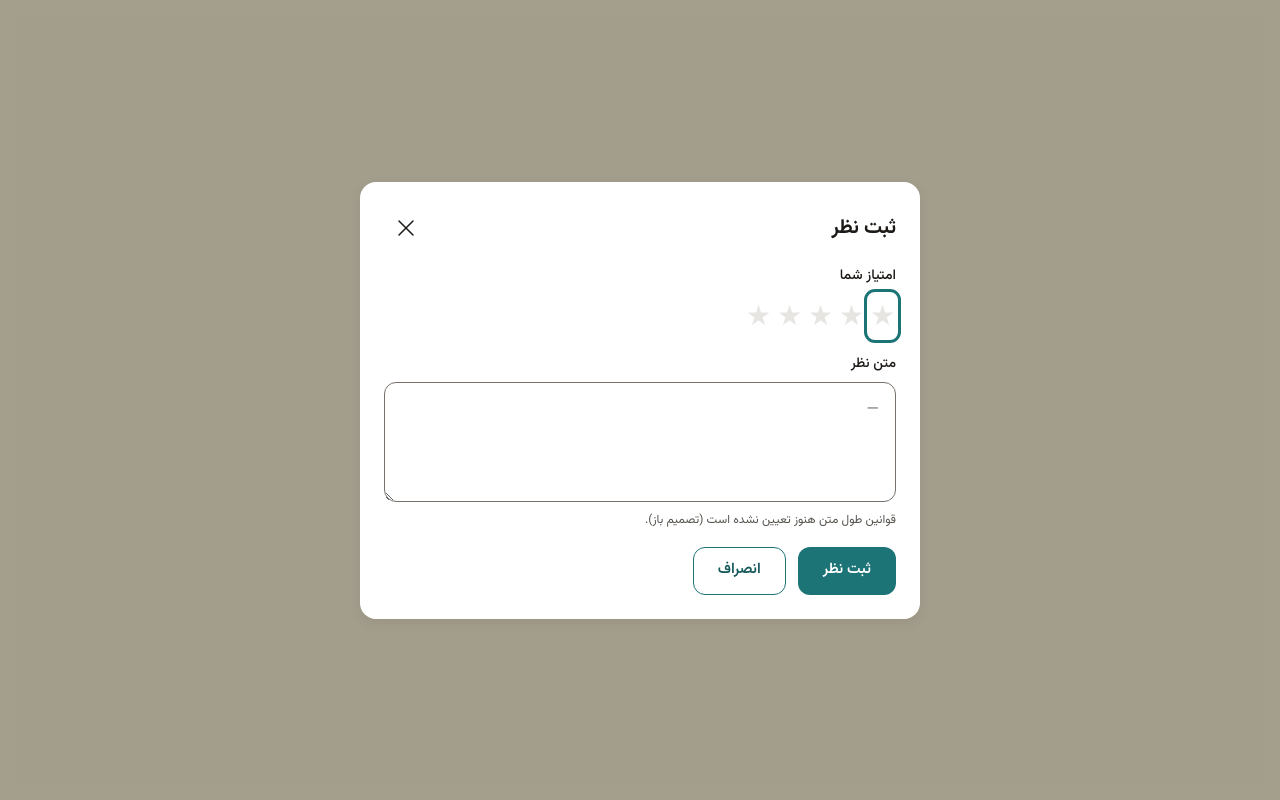
Test: Reviews (fix1 item 5, 266:71080 / 266:71357) › failure state offers retry
The width and height of the screenshot is (1280, 800).
Click the radio button named "۵ از ۵". click: [758, 316]
box: [745,294,772,338]
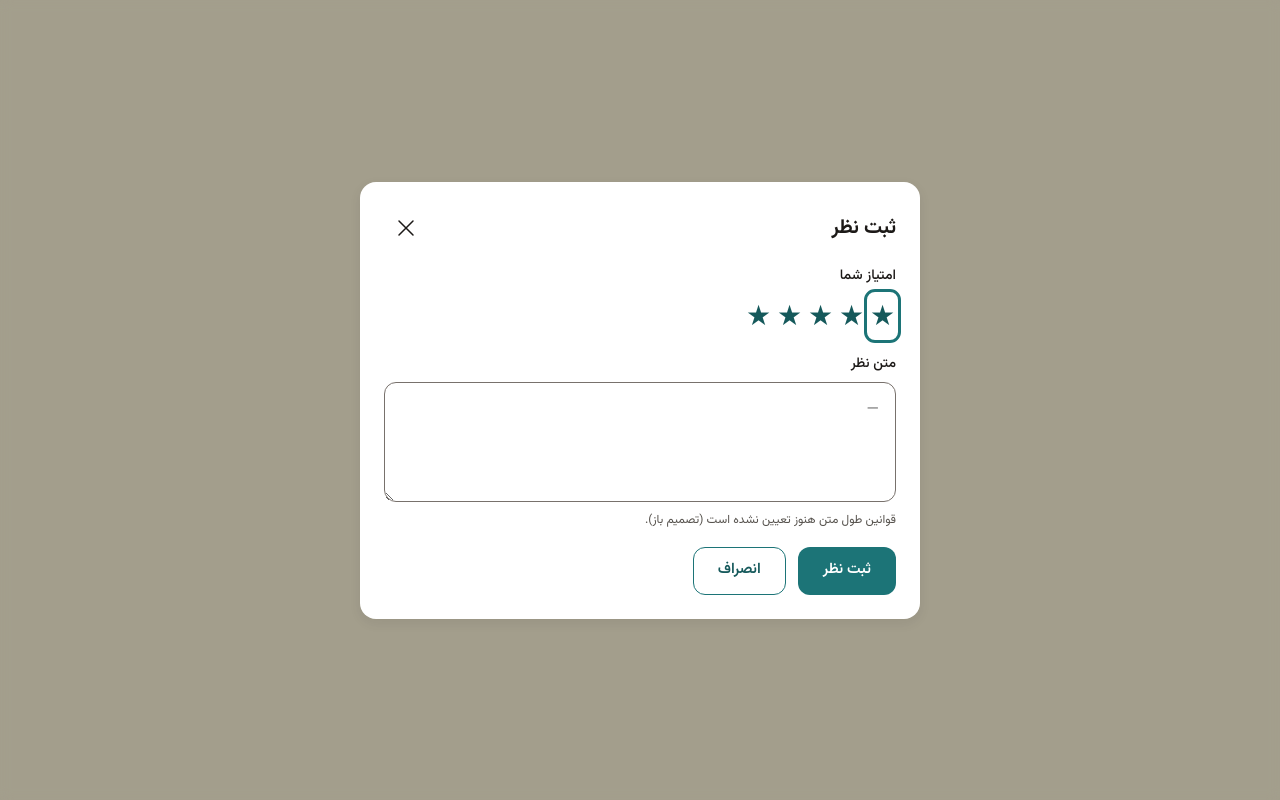
Type "x" into the text box labelled "متن نظر". click: [640, 442]
box: [384,382,896,502]
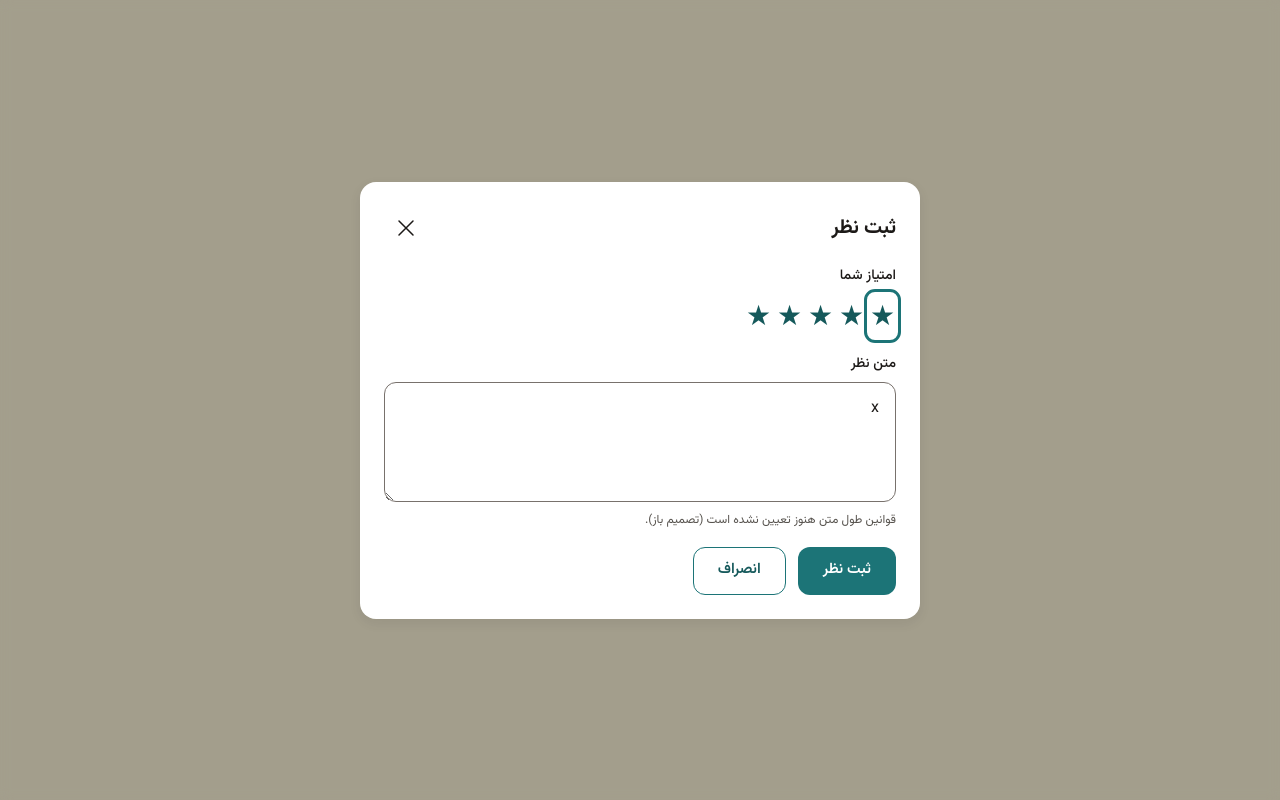
Click the button "ثبت نظر". click: [847, 570]
box: [798,546,896,594]
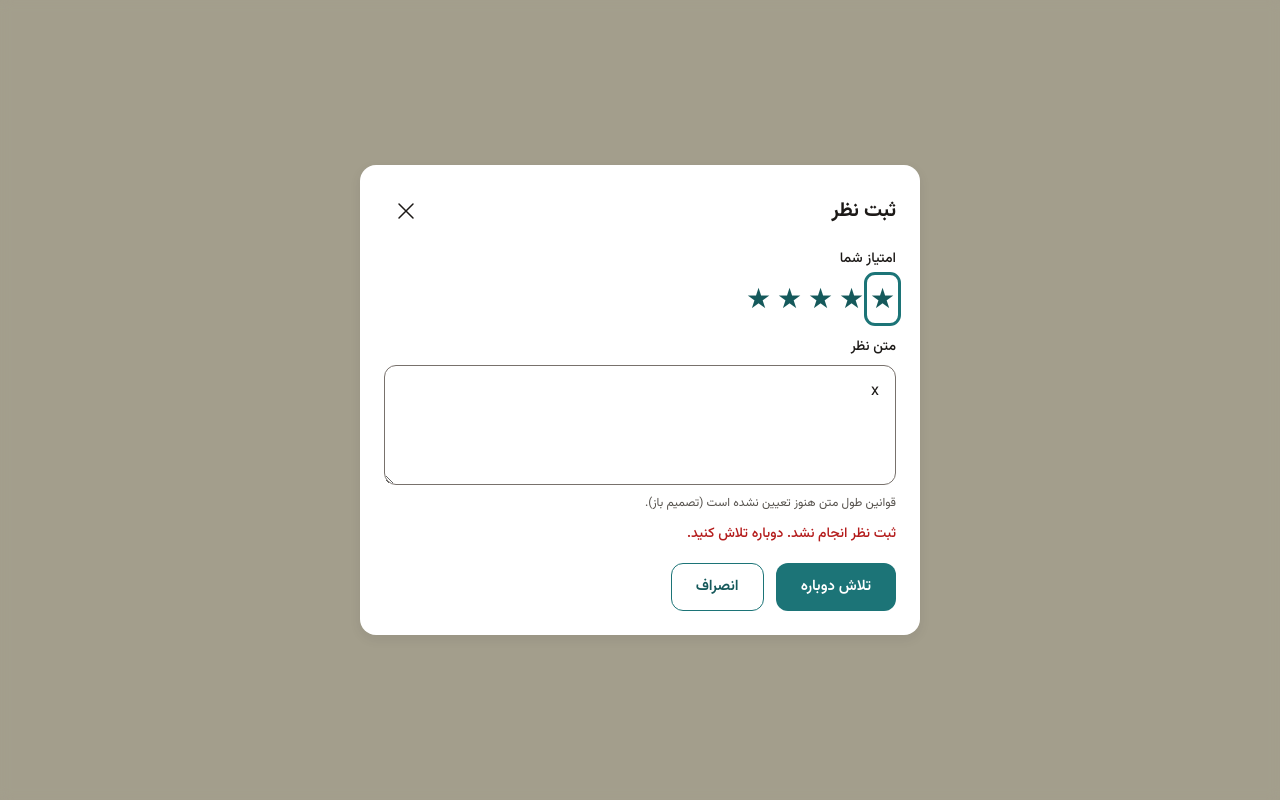
Expected: the text "ثبت نظر انجام نشد. دوباره تلاش کنید." is shown, [687,523,896,545]
Expected: the button "تلاش دوباره" is shown, [776,563,896,611]
